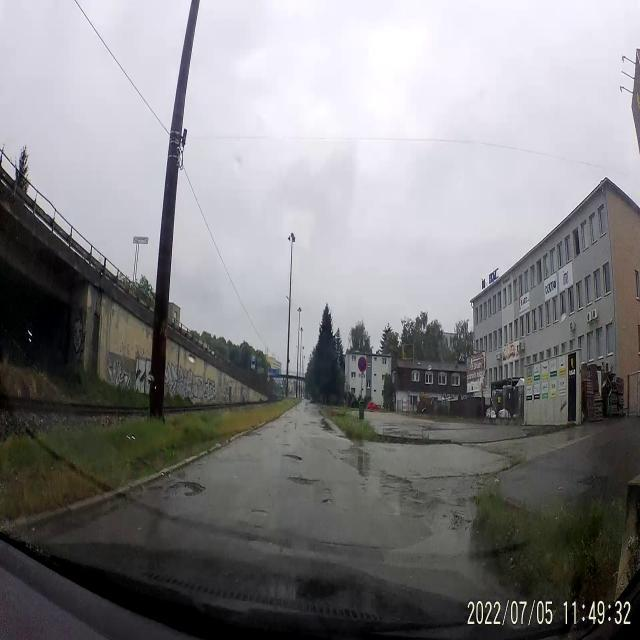Pothole: (164, 473, 210, 503), (284, 471, 322, 491), (280, 448, 305, 468)
